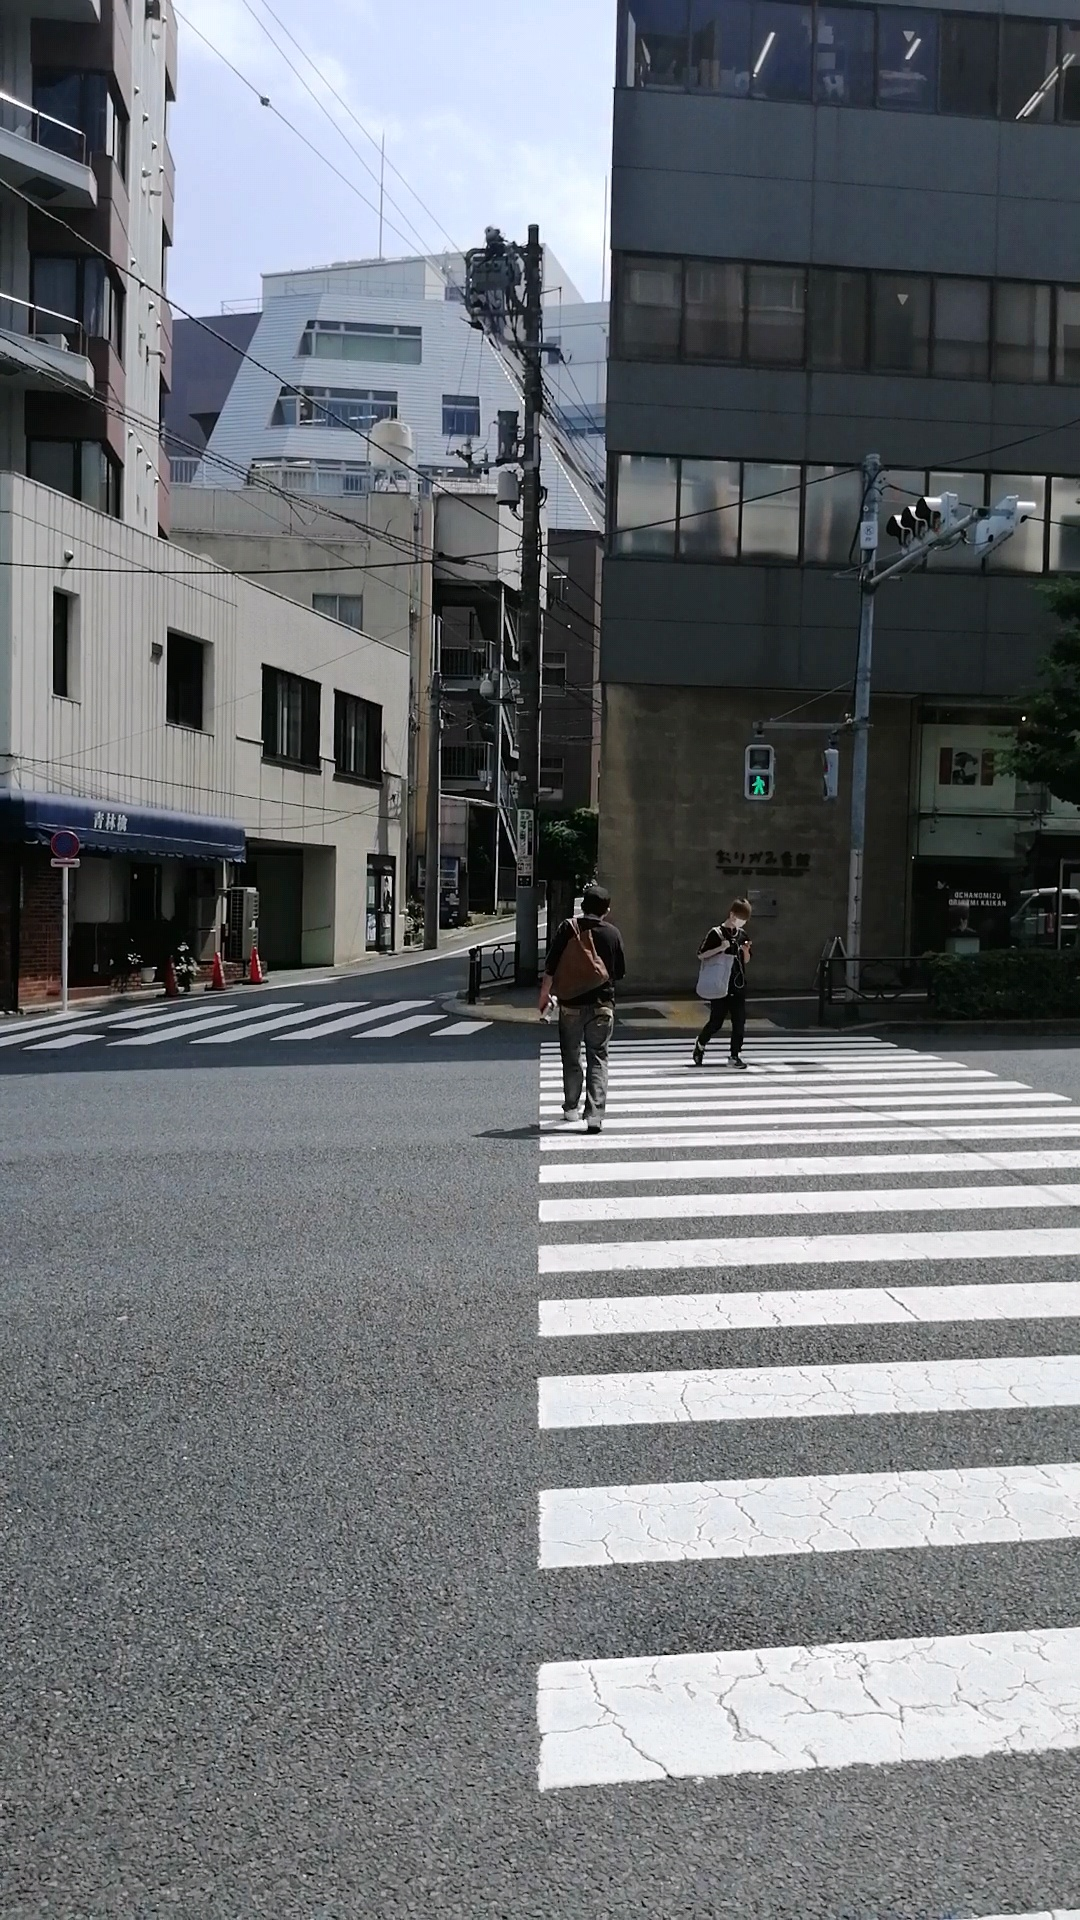green: (745, 742, 774, 799)
